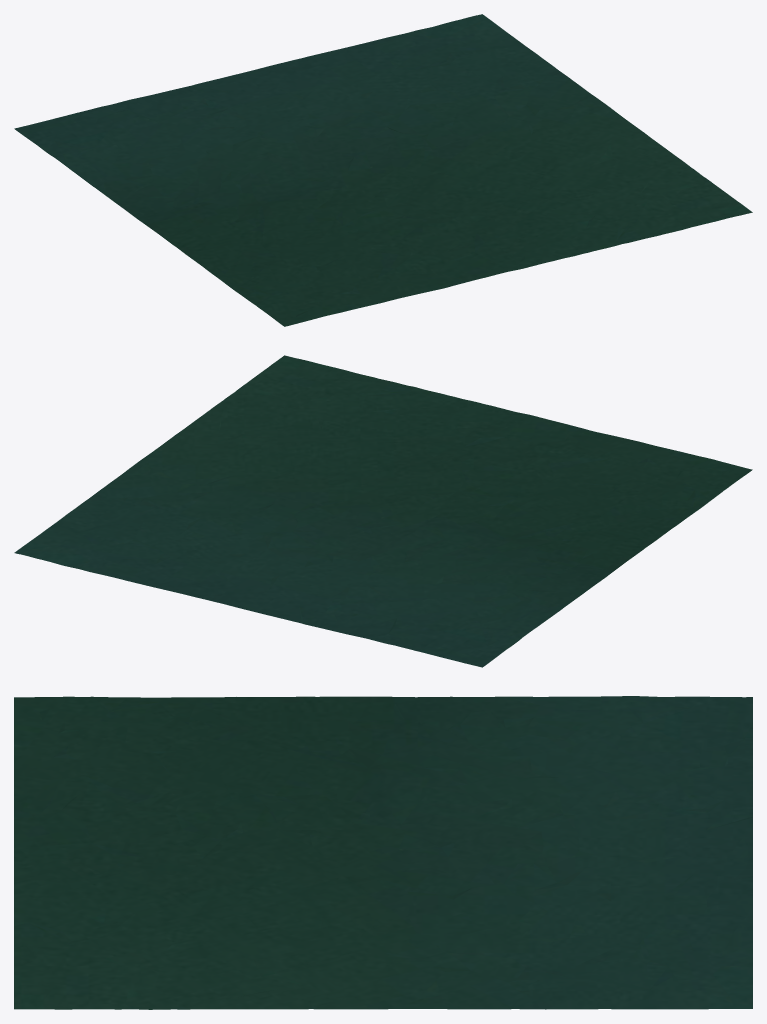
The picture shows the model from 3 angles, top to bottom: view 1: azimuth 30°, elevation 25°; view 2: azimuth 150°, elevation 25°; view 3: azimuth 270°, elevation 25°; orthographic projection. The views are drawn at different scales.
Size of the model in its own units: 209 by 0.605 by 209.
Materials: 3 (3 with a texture image).
